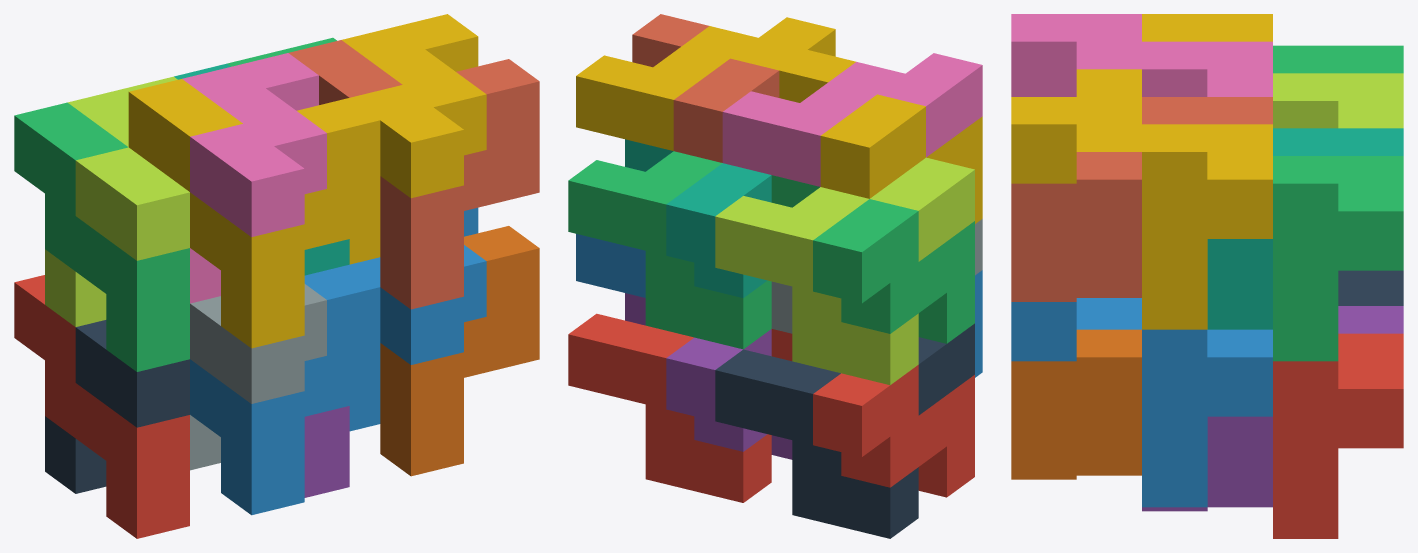
File: tiling.obj
3 views of the same model, side by side, from view 1: azimuth 30°, elevation 25°; view 2: azimuth 150°, elevation 25°; view 3: azimuth 270°, elevation 25° (orthographic). The views are drawn at different scales.
Parts seen in each view (by area): view 1: copy_1_domain_4, copy_1_domain_8, copy_2_domain_4, copy_1_domain_2, copy_1_domain_3, copy_1_domain_6, copy_2_domain_8, copy_1_domain_1, copy_2_domain_3, copy_2_domain_1, copy_2_domain_2, copy_2_domain_6 (+2 smaller); view 2: copy_2_domain_3, copy_2_domain_1, copy_1_domain_3, copy_2_domain_7, copy_2_domain_4, copy_1_domain_1, copy_2_domain_5, copy_2_domain_8, copy_1_domain_4, copy_1_domain_7, copy_1_domain_8, copy_1_domain_5 (+3 smaller); view 3: copy_2_domain_8, copy_2_domain_6, copy_2_domain_7, copy_1_domain_8, copy_2_domain_5, copy_1_domain_6, copy_2_domain_4, copy_1_domain_7, copy_1_domain_5, copy_2_domain_3, copy_1_domain_4, copy_1_domain_3 (+1 smaller).
Part boxes in pixels (x1,y1,x2,y2): copy_1_domain_4: (128, 79, 380, 348); copy_1_domain_8: (289, 40, 539, 309); copy_2_domain_4: (182, 53, 326, 303); copy_1_domain_2: (190, 264, 380, 515); copy_1_domain_3: (14, 102, 189, 371); copy_1_domain_6: (380, 226, 539, 476); copy_2_domain_8: (342, 14, 486, 264); copy_1_domain_1: (14, 275, 189, 538); copy_2_domain_3: (45, 76, 189, 326); copy_2_domain_1: (45, 320, 189, 493); copy_2_domain_2: (190, 284, 326, 470); copy_2_domain_6: (349, 207, 486, 431); copy_2_domain_3: (715, 157, 974, 385); copy_2_domain_1: (715, 323, 974, 538); copy_1_domain_3: (771, 175, 974, 343); copy_2_domain_7: (568, 151, 771, 349); copy_2_domain_4: (722, 53, 982, 186); copy_1_domain_1: (771, 329, 974, 497); copy_2_domain_5: (568, 313, 771, 502); copy_2_domain_8: (576, 17, 835, 150); copy_1_domain_4: (779, 50, 982, 223); copy_1_domain_7: (625, 139, 771, 297); copy_1_domain_8: (632, 14, 779, 162); copy_1_domain_5: (625, 293, 792, 459); copy_2_domain_8: (1011, 97, 1272, 329); copy_2_domain_6: (1011, 298, 1272, 507); copy_2_domain_7: (1273, 156, 1403, 361); copy_1_domain_8: (1011, 97, 1272, 301); copy_2_domain_5: (1273, 333, 1403, 538); copy_1_domain_6: (1011, 329, 1141, 479); copy_2_domain_4: (1011, 14, 1272, 96); copy_1_domain_7: (1207, 128, 1403, 329); copy_1_domain_5: (1142, 306, 1403, 511); copy_2_domain_3: (1273, 73, 1403, 128); copy_1_domain_4: (1076, 14, 1272, 96); copy_1_domain_3: (1273, 45, 1403, 73).
Size of the model in its own units: 7 by 7 by 6.
